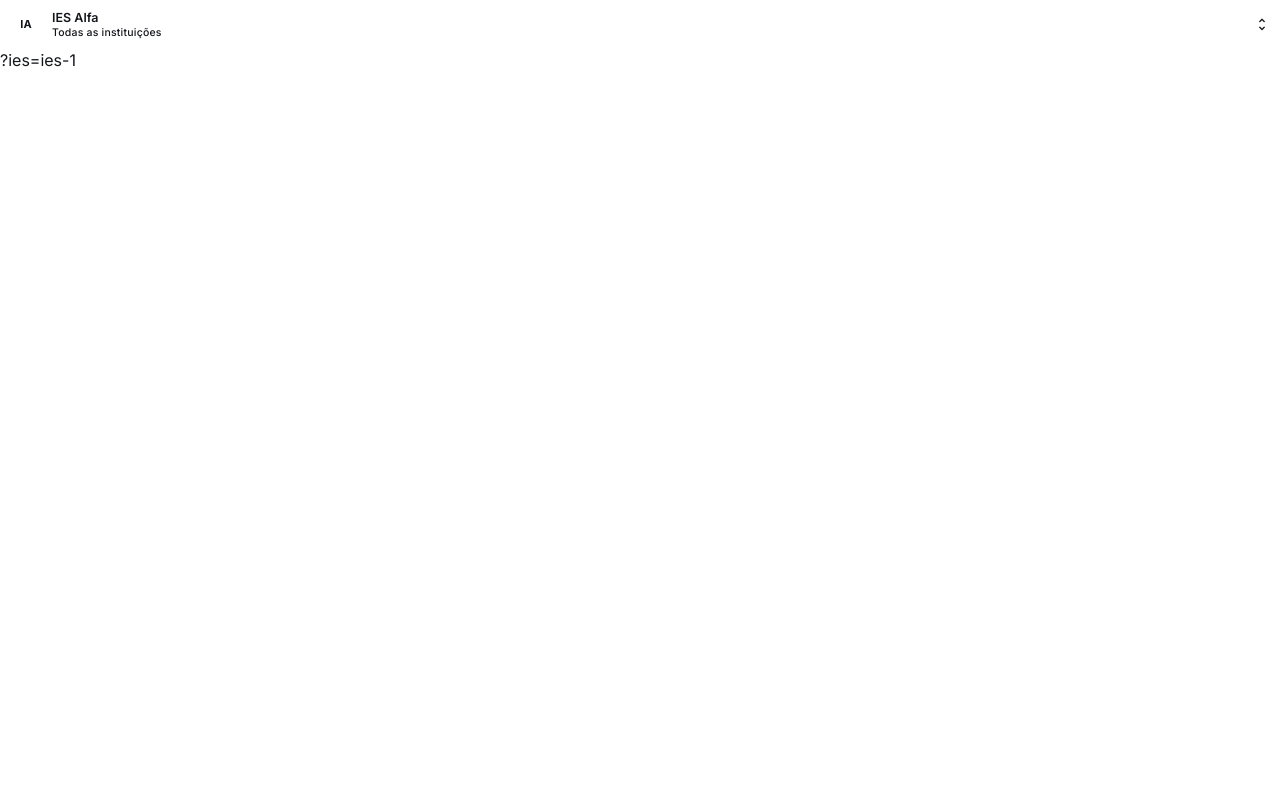
Test: SidebarIes (spec §3) › admin com muitas IES: painel abre com a lista inteira e o contador, sem busca
This screenshot has width=1280, height=800.
Click the dropdown named "instituição": {"x": 75, "y": 17} [0,0,1279,48]
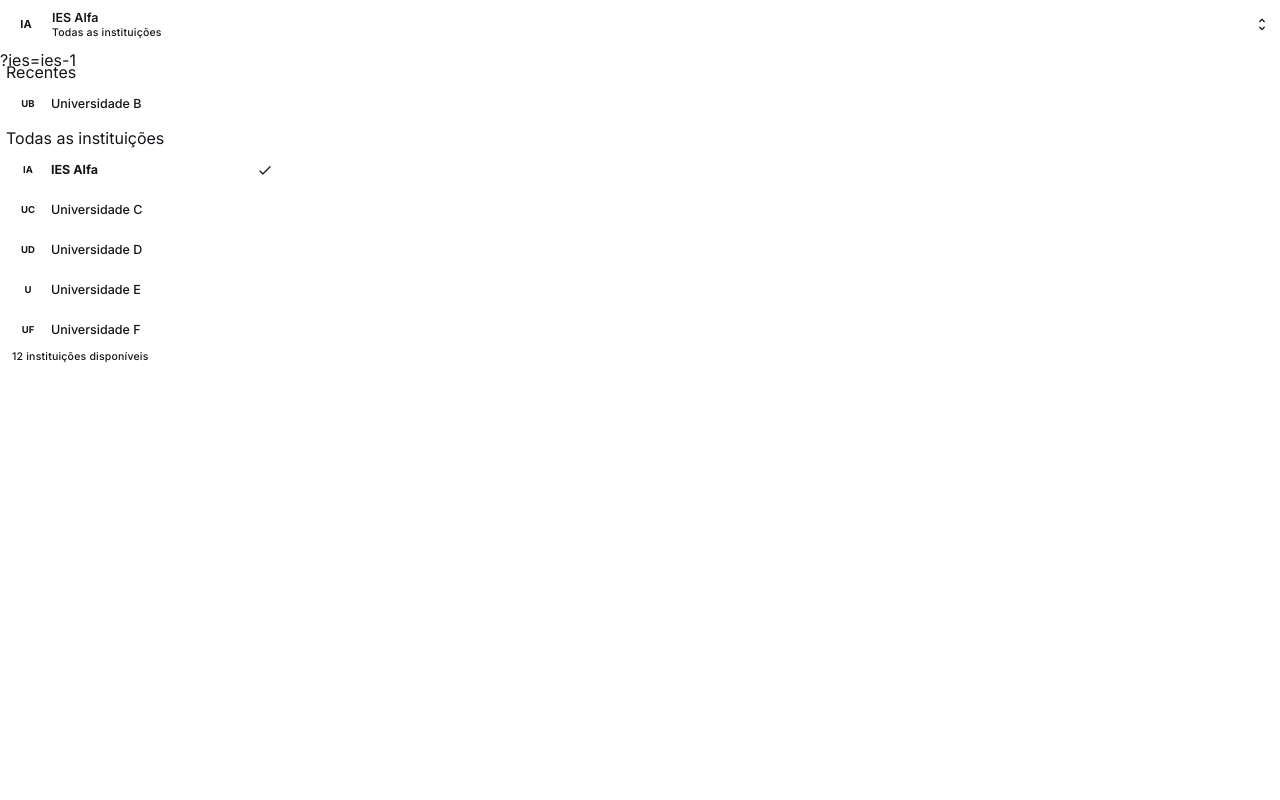
Expected: the text "Universidade C" is shown, [51,202,142,217]
Expected: the text "12 instituições disponíveis" is shown, [12,350,149,363]
Expected: the text "Universidade D" is shown, [51,242,142,257]
